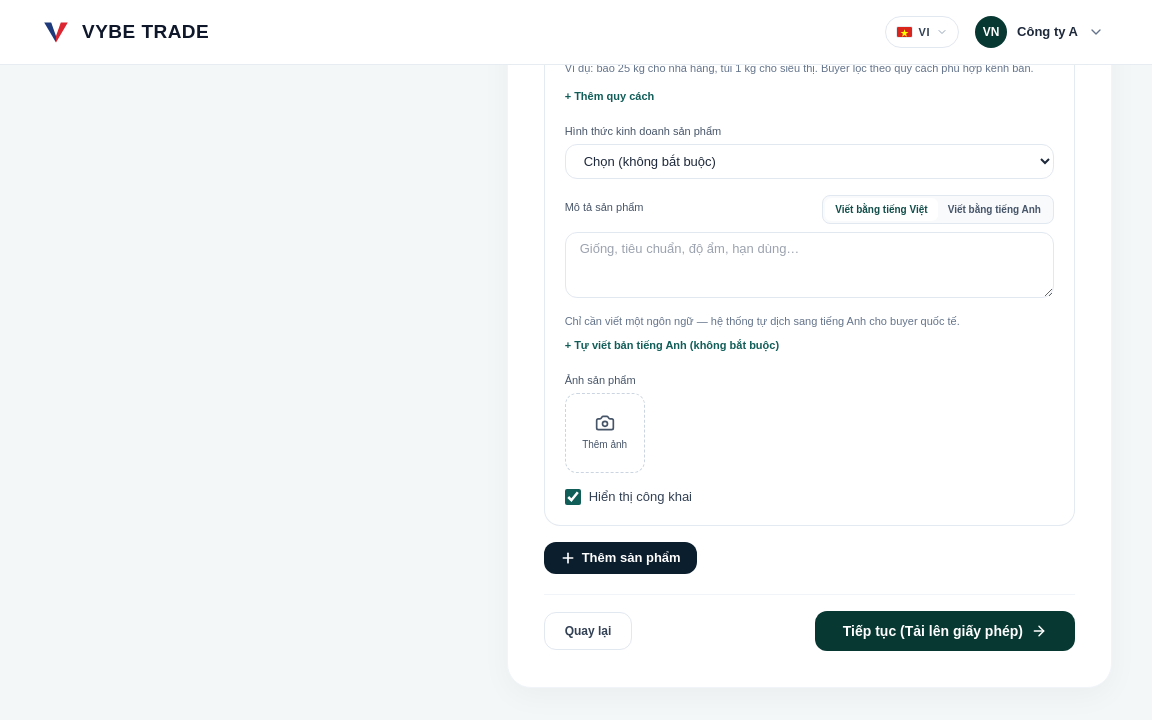
SellerOnboarding bước 2 — sản phẩm (B5) › giá không hợp lệ cũng chặn ở bước 2
(page scrolled)
Click the button "Tiếp tục (Tải lên giấy phép)" at (945, 630), box [815,610,1075,650]
(page scrolled)
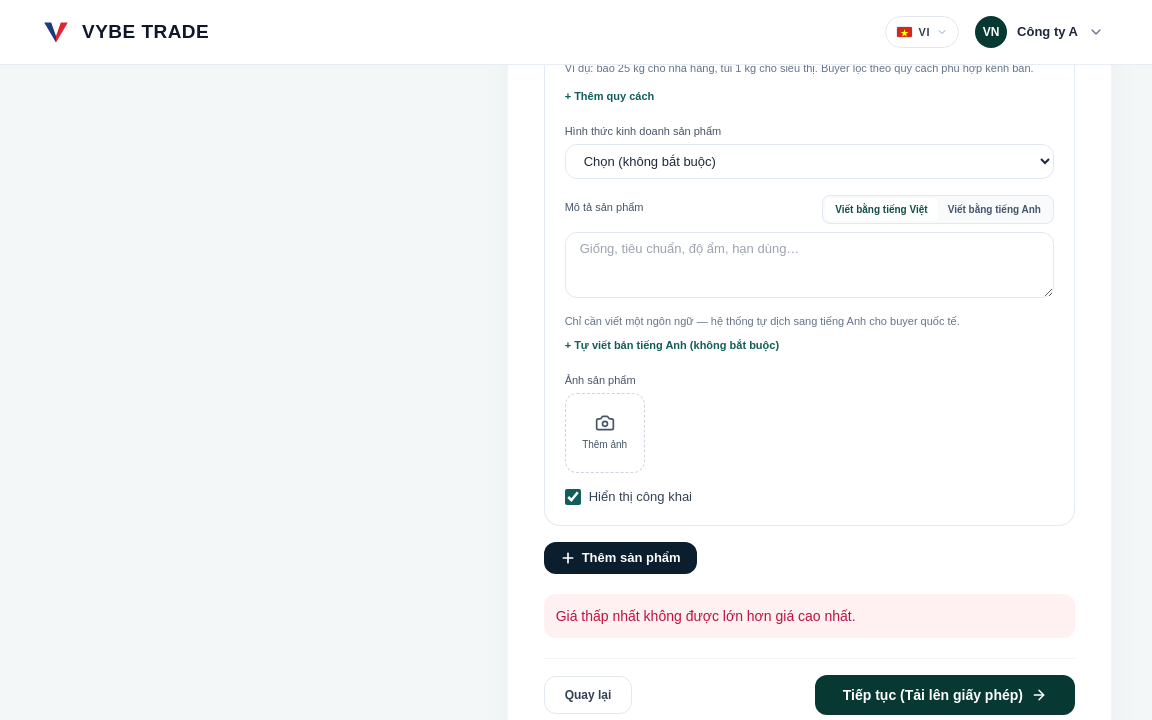
Expected: the message reads "Giá thấp nhất không được lớn hơn giá cao nhất.", [556,608,856,624]
